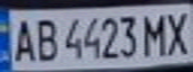2: (100, 12, 121, 60)
3: (118, 12, 142, 60)
4: (60, 14, 84, 61), (81, 12, 103, 60)
A: (6, 15, 39, 64)
B: (30, 15, 60, 62)
M: (139, 10, 172, 57)
X: (163, 8, 193, 56)
